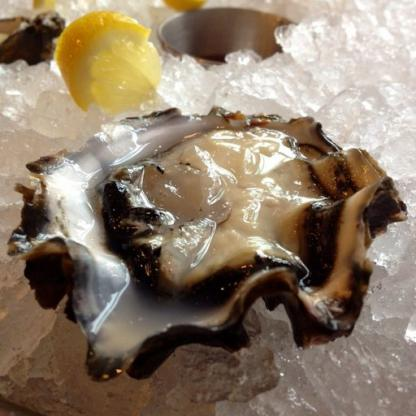oyster: (17, 110, 397, 358)
